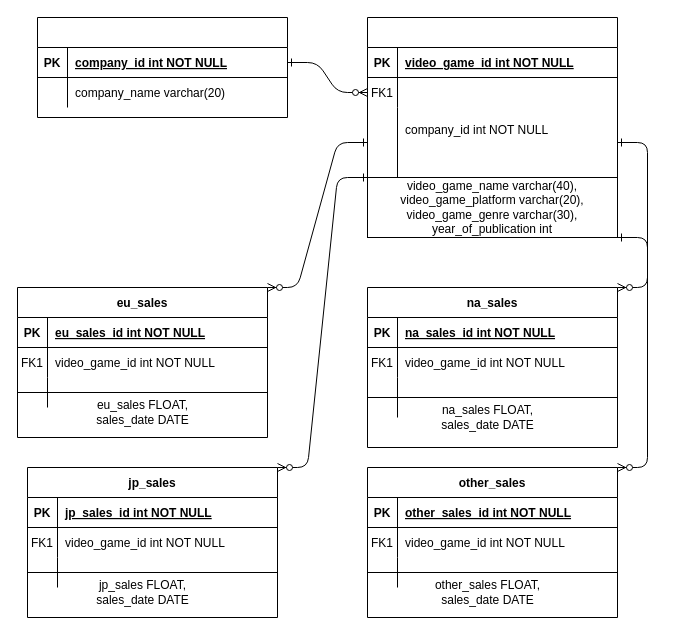
This 674x635 diagram has some shape labels left out. Here are the shapes that lost their labels. From the top down, the box of each, then its label:
(36, 16, 288, 118): companies
(366, 16, 618, 178): video_games
